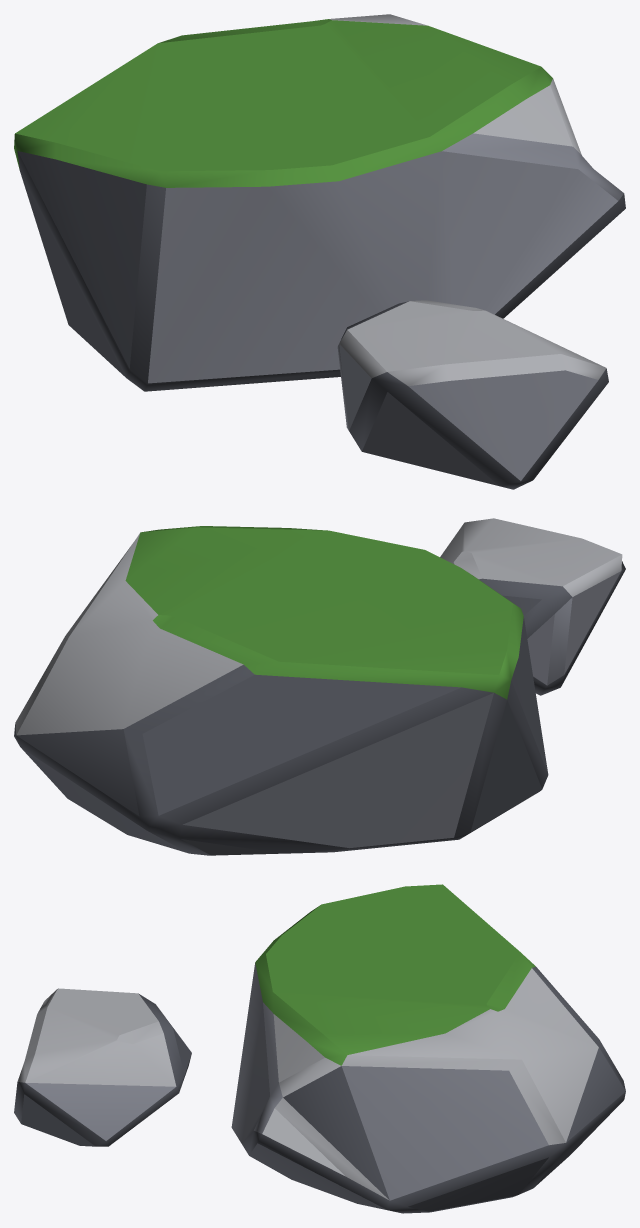
The model's file is Rock_16.glb.
3 renders of one model, top to bottom at view 1: azimuth 30°, elevation 25°; view 2: azimuth 150°, elevation 25°; view 3: azimuth 270°, elevation 25°, orthographic. The views are drawn at different scales.
Parts seen in each view (by area): view 1: Rock_16; view 2: Rock_16; view 3: Rock_16.
Boxes of the visible parts, <box> form: Rock_16: <box>14,14,625,489</box>; Rock_16: <box>14,518,625,855</box>; Rock_16: <box>14,884,625,1213</box>.
Bounding box in the file's own units: 2.29 × 0.8926 × 3.06.
